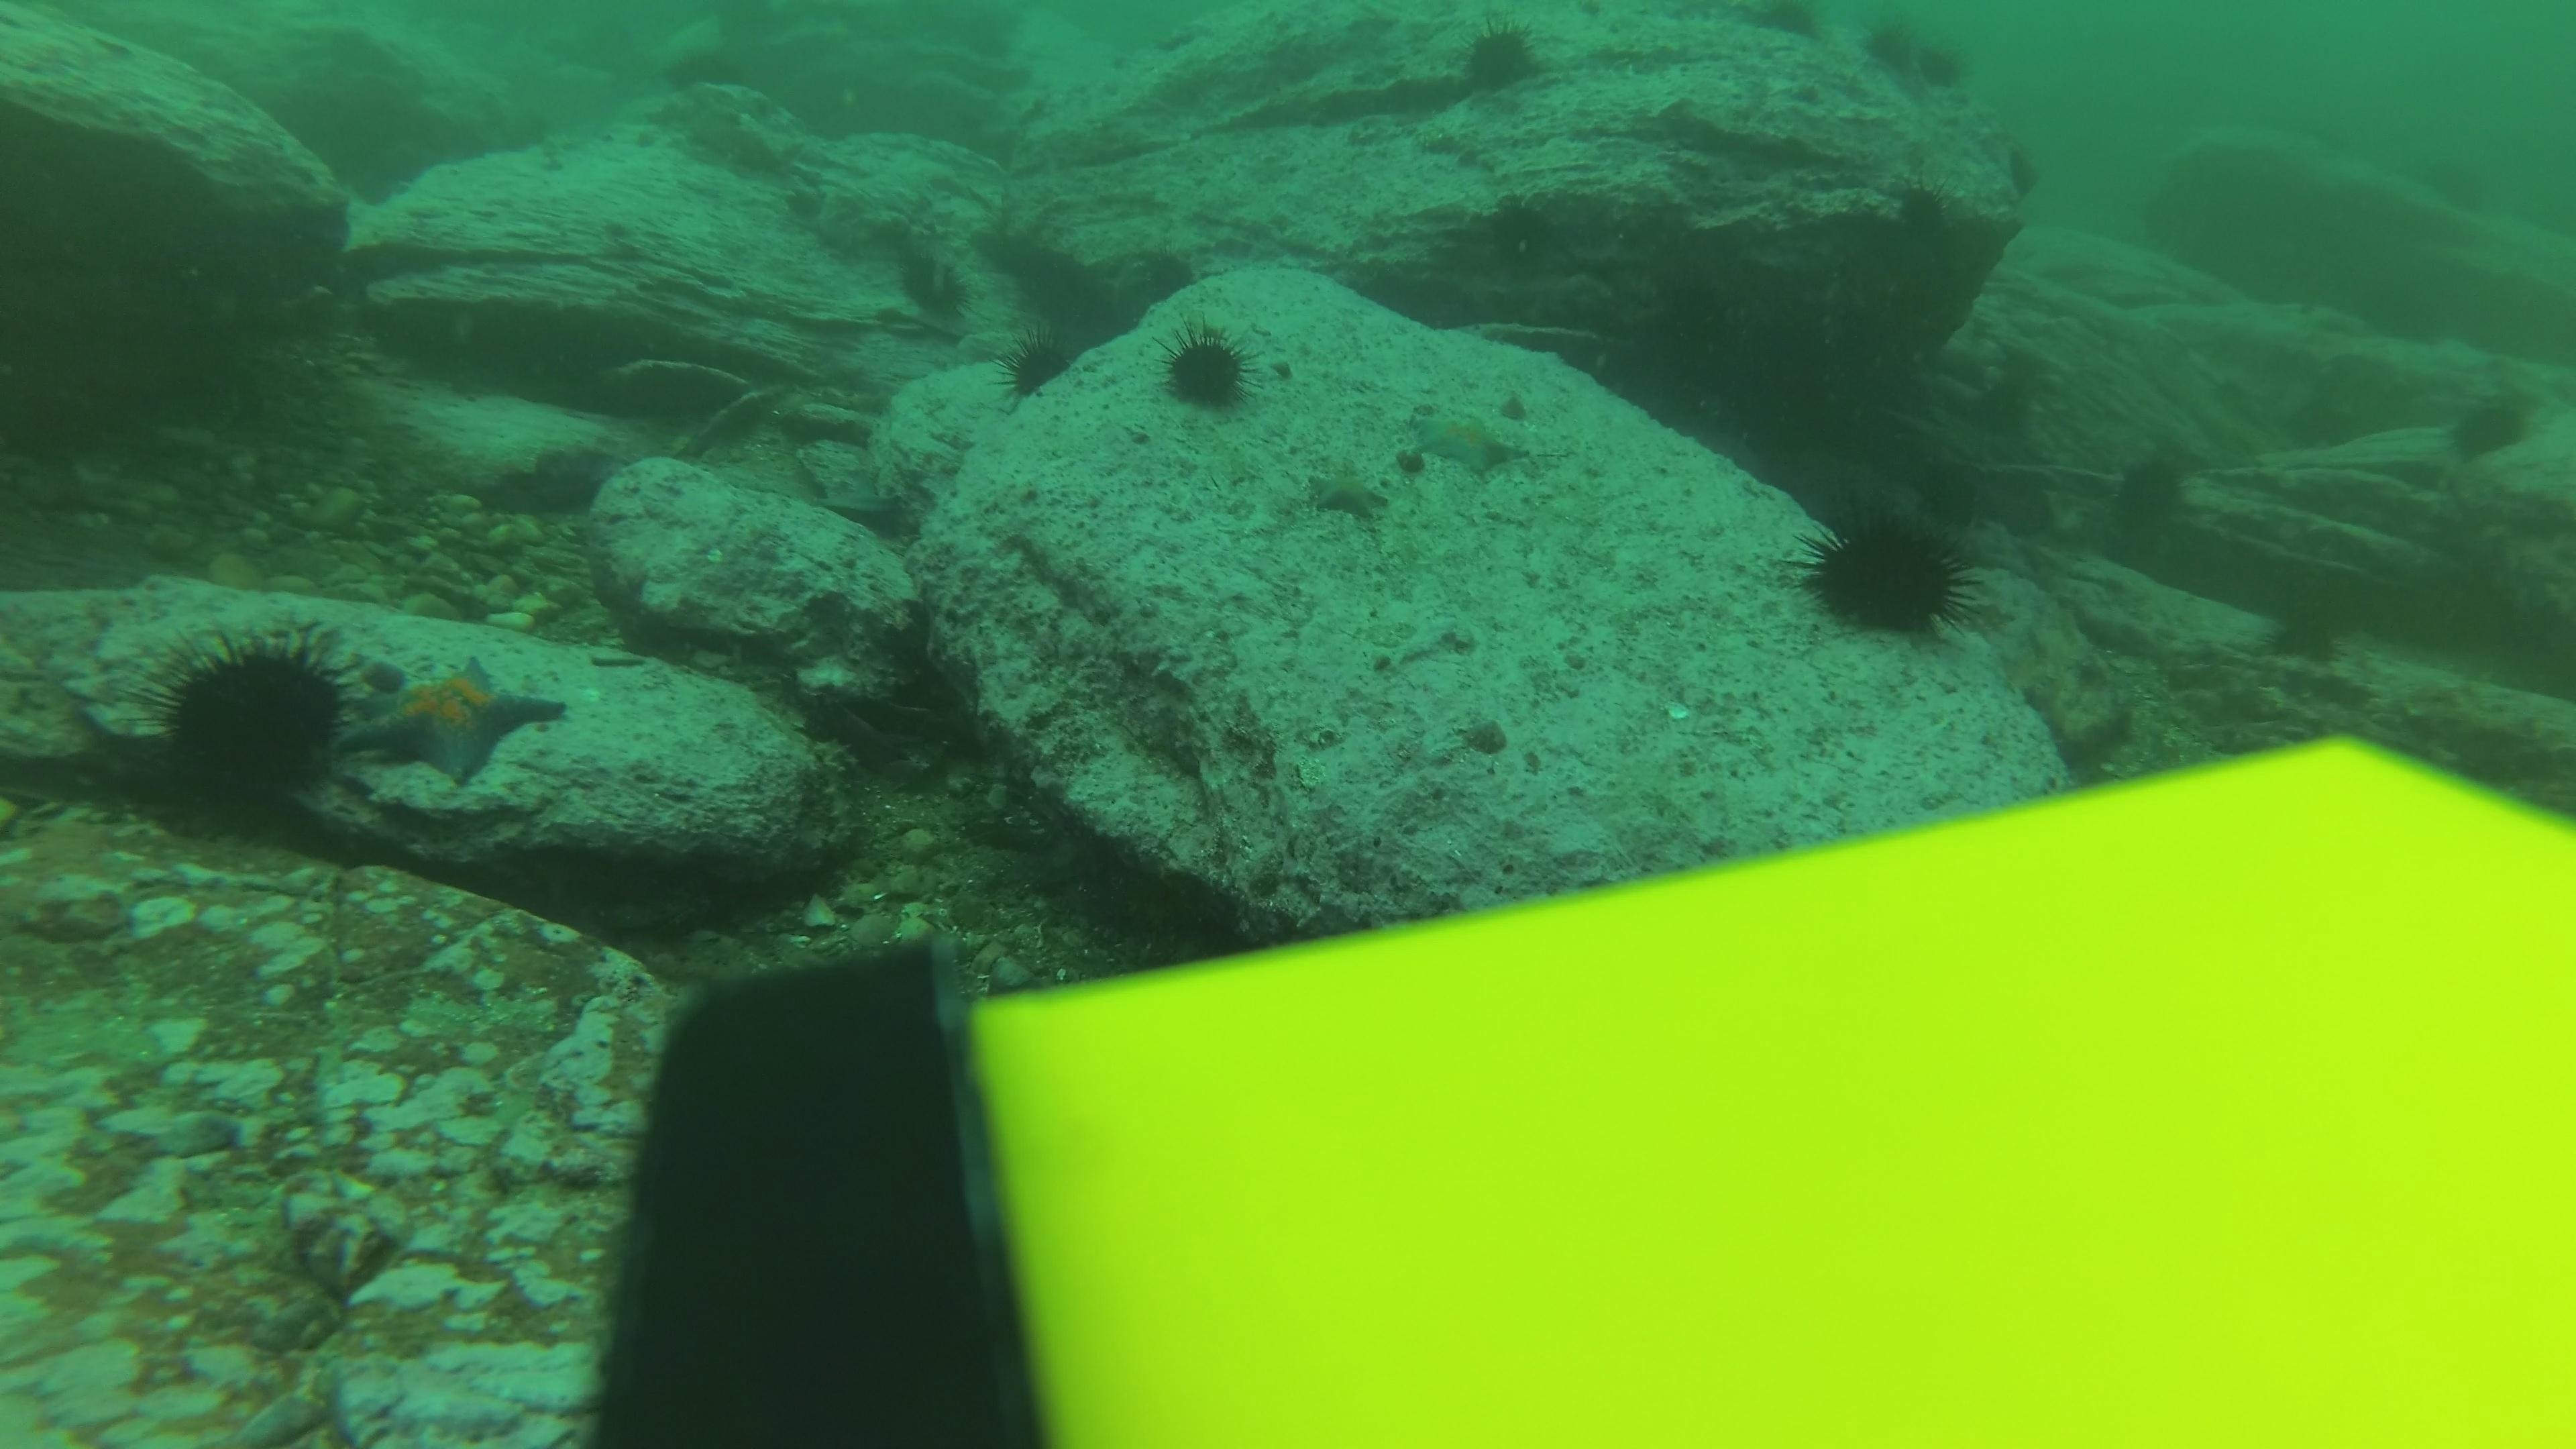echinus: (142, 619, 361, 817), (1790, 497, 1985, 648), (1150, 318, 1263, 421), (2258, 596, 2357, 695), (1445, 16, 1555, 104), (2102, 444, 2199, 543), (2440, 384, 2541, 467), (996, 317, 1092, 398), (1118, 235, 1214, 317), (890, 246, 977, 327), (1767, 0, 1835, 60), (1856, 14, 1916, 76), (1907, 27, 1967, 88), (1897, 170, 1955, 232)
starfish: (333, 651, 571, 794), (1399, 403, 1541, 479), (1304, 464, 1394, 527)
